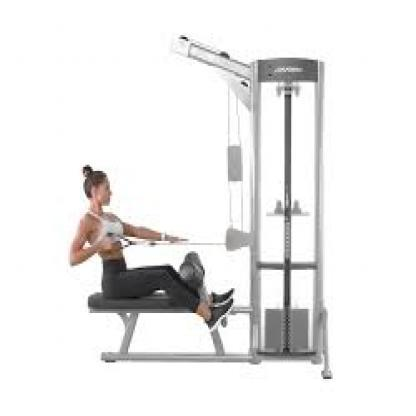Seated Cable Rows: (67, 25, 339, 380)
